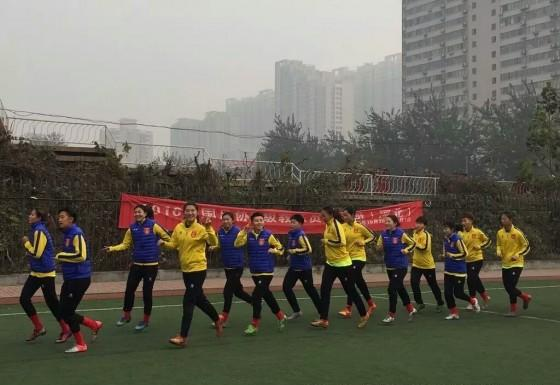person: (157, 203, 226, 348), (102, 203, 172, 332), (19, 206, 76, 344), (309, 205, 371, 330), (53, 207, 102, 355), (233, 211, 288, 336), (209, 211, 263, 326), (373, 214, 418, 325), (283, 211, 328, 321), (337, 204, 377, 319), (495, 211, 535, 316), (409, 216, 448, 313), (444, 221, 480, 320), (459, 214, 493, 310)
